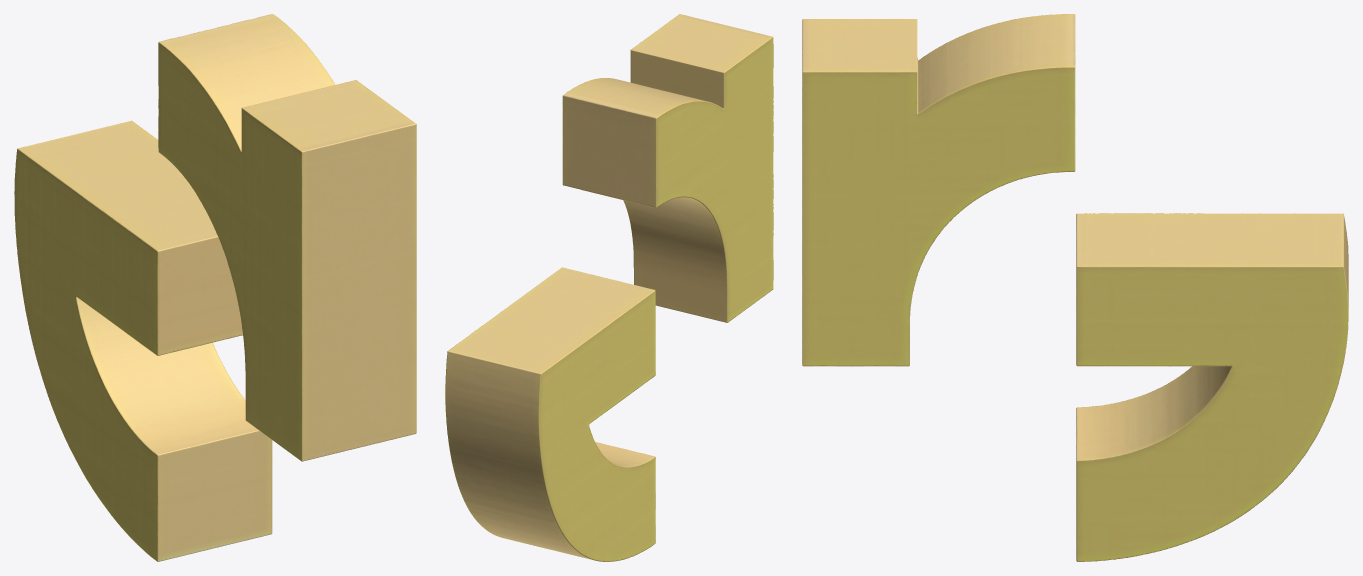
3 views of the same model, side by side, from view 1: azimuth 30°, elevation 25°; view 2: azimuth 150°, elevation 25°; view 3: azimuth 270°, elevation 25° (orthographic). The views are drawn at different scales.
Visible parts, largest first — view 1: tripo_node_719e298a-933b-4ec8-9880-d9f2ddbc4a2d; view 2: tripo_node_719e298a-933b-4ec8-9880-d9f2ddbc4a2d; view 3: tripo_node_719e298a-933b-4ec8-9880-d9f2ddbc4a2d.
Boxes of the visible parts, x1,y1,x2,y2 form: tripo_node_719e298a-933b-4ec8-9880-d9f2ddbc4a2d: (14,14,416,561); tripo_node_719e298a-933b-4ec8-9880-d9f2ddbc4a2d: (445,14,773,561); tripo_node_719e298a-933b-4ec8-9880-d9f2ddbc4a2d: (802,14,1348,561).
Size of the model in its own units: 0.2316 by 1 by 1.
Materials: 1 (1 with a texture image).
